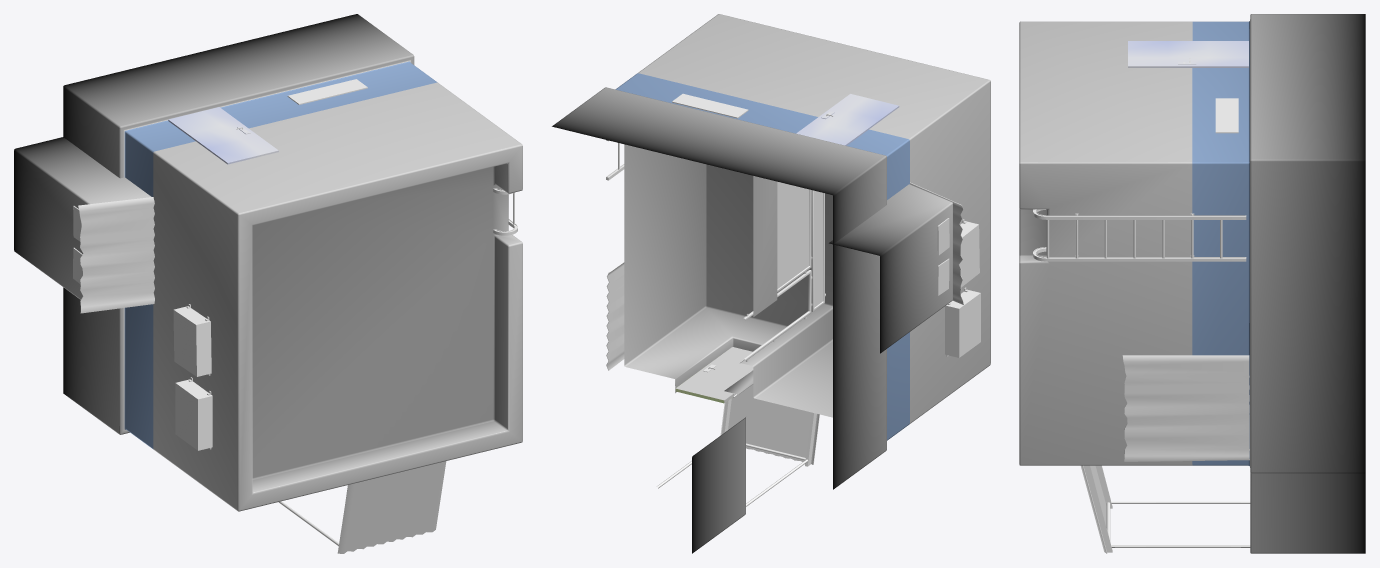
Rendered from bld_store.gltf.
3 views of the same model, side by side, from view 1: azimuth 30°, elevation 25°; view 2: azimuth 150°, elevation 25°; view 3: azimuth 270°, elevation 25° (orthographic). The views are drawn at different scales.
Parts seen in each view (by area): view 1: g_bld_store, g_ext_front; view 2: g_bld_store, g_ext_front, g_bld_store_misc2, c_door, g_bld_store_misc; view 3: g_bld_store, g_ext_front, g_bld_store_ladder.
Boxes of the visible parts, left/top/right/bottom form: g_bld_store: left=14, top=14, right=522, bottom=511; g_ext_front: left=73, top=79, right=446, bottom=553; g_bld_store: left=552, top=14, right=990, bottom=553; g_ext_front: left=606, top=93, right=980, bottom=506; g_bld_store_misc2: left=777, top=181, right=822, bottom=307; c_door: left=676, top=347, right=753, bottom=402; g_bld_store_misc: left=743, top=189, right=825, bottom=361; g_bld_store: left=1019, top=14, right=1365, bottom=553; g_ext_front: left=1081, top=41, right=1250, bottom=553; g_bld_store_ladder: left=1033, top=209, right=1246, bottom=261.
Size of the model in its own units: 7.25 by 8.01 by 6.
